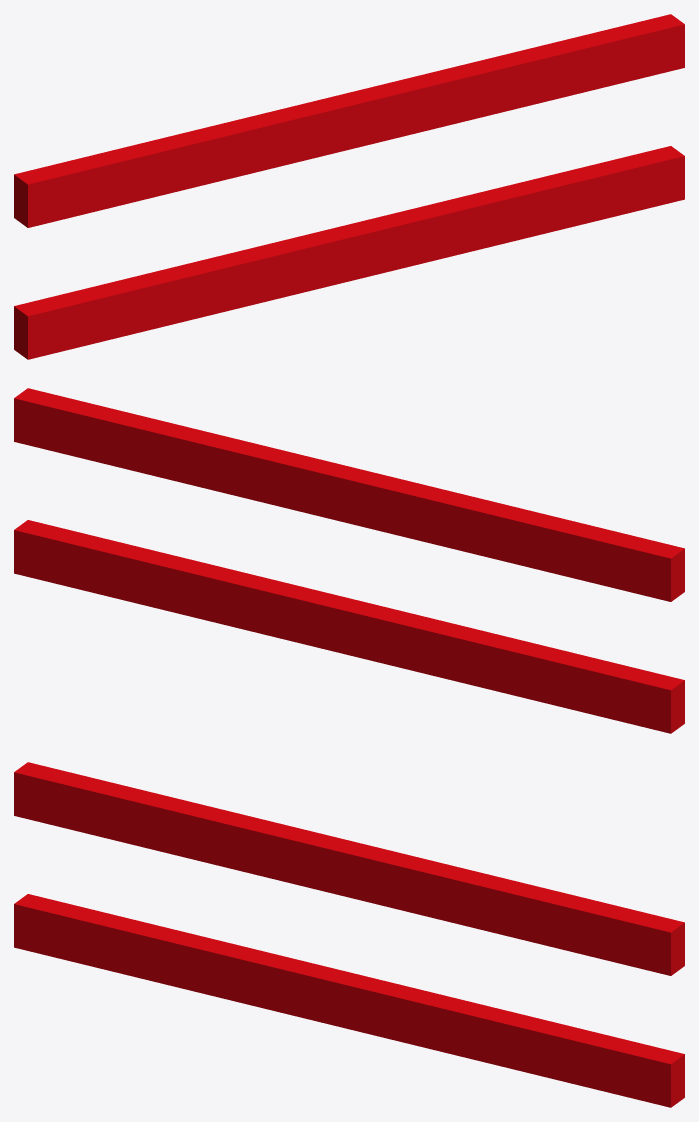
Rendered from Fencadillo 1.fbx.
The picture shows the model from 3 angles, top to bottom: view 1: azimuth 30°, elevation 25°; view 2: azimuth 150°, elevation 25°; view 3: azimuth 330°, elevation 25°; orthographic projection.
Parts seen in each view (by area): view 1: Plank.001, Plank; view 2: Plank.001, Plank; view 3: Plank.001, Plank.
Part boxes in pixels (bbox=[...]): Plank.001: bbox=[14, 14, 684, 227]; Plank: bbox=[14, 146, 684, 359]; Plank.001: bbox=[14, 388, 684, 601]; Plank: bbox=[14, 520, 684, 733]; Plank.001: bbox=[14, 762, 684, 975]; Plank: bbox=[14, 894, 684, 1107].
Bounding box in the file's own units: 246 × 62.57 × 9.03.
